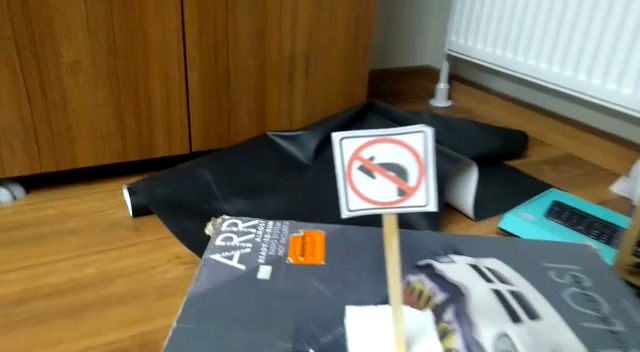sola_donulmez: (346, 129, 428, 214)
